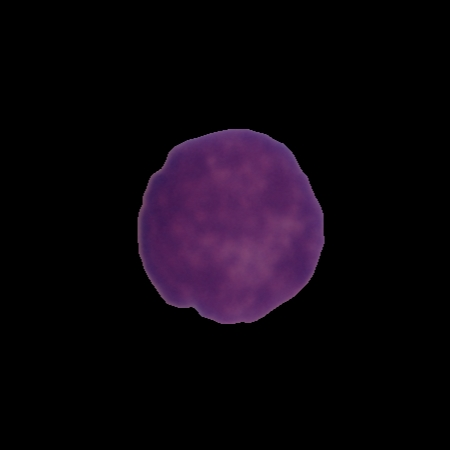HEM: (131, 123, 329, 329)
